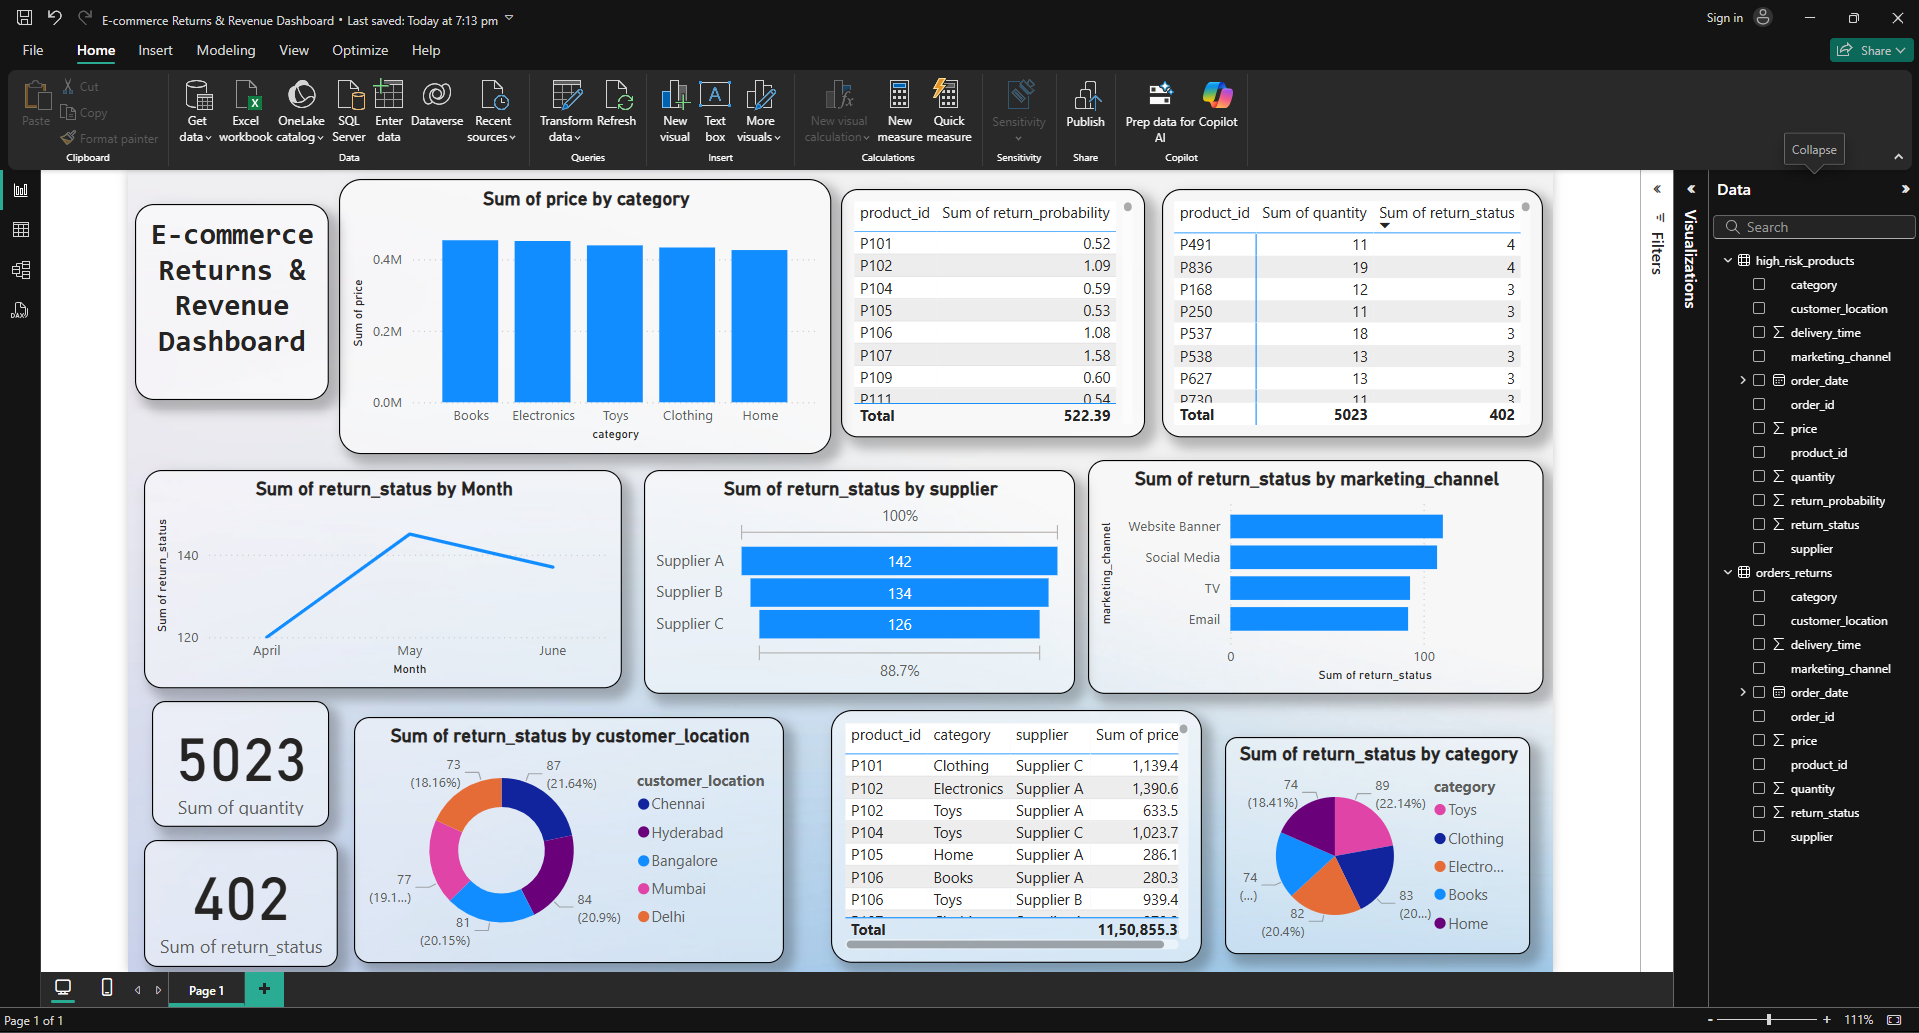

This screenshot's page, from the dashboard's own definition file:
{"tool":"powerbi","page":{"name":"Page 1","canvas":[1280,720],"ordinal":0},"visuals":[{"type":"columnChart","fields":{"Category":["orders_returns.category"],"Y":["Sum(orders_returns.price)"]},"box":[189,7.7,442.3,247.4],"z":0},{"type":"donutChart","fields":{"Category":["orders_returns.customer_location"],"Y":["Sum(orders_returns.return_status)"]},"box":[202.6,491,385.9,220.5],"z":1000},{"type":"pieChart","fields":{"Category":["orders_returns.category"],"Y":["Sum(orders_returns.return_status)"]},"box":[984.6,509,274.4,194.9],"z":2000},{"type":"lineChart","fields":{"Category":["orders_returns.order_date.Variation.Date Hierarchy.Month"],"Y":["Sum(orders_returns.return_status)"]},"box":[14.1,269.2,429.5,196.2],"z":3000},{"type":"tableEx","fields":{"Values":["high_risk_products.product_id","Sum(high_risk_products.return_probability)"]},"box":[639.7,16.7,273.1,223.1],"z":4000},{"type":"clusteredBarChart","fields":{"Category":["orders_returns.marketing_channel"],"Y":["Sum(orders_returns.return_status)"]},"box":[861.5,260.3,409,210.3],"z":5000},{"type":"funnel","fields":{"Category":["orders_returns.supplier"],"Y":["Sum(orders_returns.return_status)"]},"box":[462.8,269.2,387.2,201.3],"z":6000},{"type":"card","fields":{"Values":["Sum(orders_returns.return_status)"]},"box":[14.1,601.3,174.4,114.1],"z":6001},{"type":"card","fields":{"Values":["Sum(orders_returns.quantity)"]},"box":[21.8,476.9,159,112.8],"z":6002},{"type":"pivotTable","fields":{"Rows":["orders_returns.product_id"],"Values":["Sum(orders_returns.quantity)","Sum(orders_returns.return_status)"]},"box":[928.2,16.7,342.3,223.1],"z":6003},{"type":"tableEx","fields":{"Values":["high_risk_products.product_id","high_risk_products.category","high_risk_products.supplier","Sum(high_risk_products.price)"]},"box":[630.8,484.6,333.3,226.9],"z":6004},{"type":"textbox","box":[6.4,30.8,174.4,175.6],"z":6005}]}

Visuals, with their boxes on the page's 1280x720 design canvas (x1, y1, x2, y2). These are canvas units, not pixel positions in the 1919x1033 screenshot, which may show the page scaled, cropped or inside an application window:
columnChart - orders_returns.category x Sum(orders_returns.price): left=189, top=8, right=631, bottom=255
donutChart - orders_returns.customer_location x Sum(orders_returns.return_status): left=203, top=491, right=588, bottom=712
pieChart - orders_returns.category x Sum(orders_returns.return_status): left=985, top=509, right=1259, bottom=704
lineChart - orders_returns.order_date.Variation.Date Hierarchy.Month x Sum(orders_returns.return_status): left=14, top=269, right=444, bottom=465
tableEx - high_risk_products.product_id x Sum(high_risk_products.return_probability): left=640, top=17, right=913, bottom=240
clusteredBarChart - orders_returns.marketing_channel x Sum(orders_returns.return_status): left=862, top=260, right=1270, bottom=471
funnel - orders_returns.supplier x Sum(orders_returns.return_status): left=463, top=269, right=850, bottom=470
card - Sum(orders_returns.return_status): left=14, top=601, right=188, bottom=715
card - Sum(orders_returns.quantity): left=22, top=477, right=181, bottom=590
pivotTable - orders_returns.product_id x Sum(orders_returns.quantity): left=928, top=17, right=1270, bottom=240
tableEx - high_risk_products.product_id x high_risk_products.category: left=631, top=485, right=964, bottom=712
textbox: left=6, top=31, right=181, bottom=206
